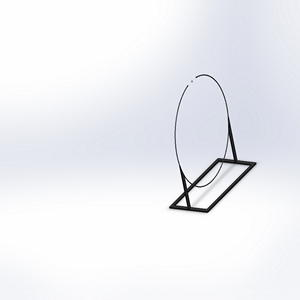circle: (166, 70, 258, 214)
